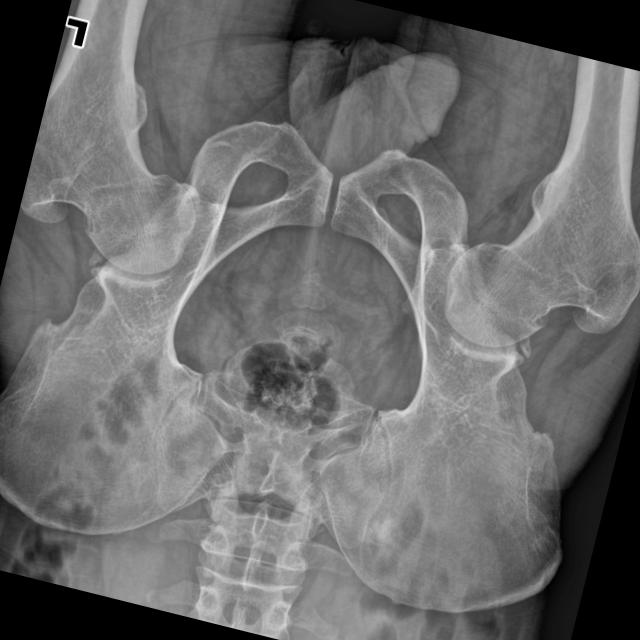normal-left: (19, 0, 193, 272)
normal-right: (445, 56, 640, 345)
